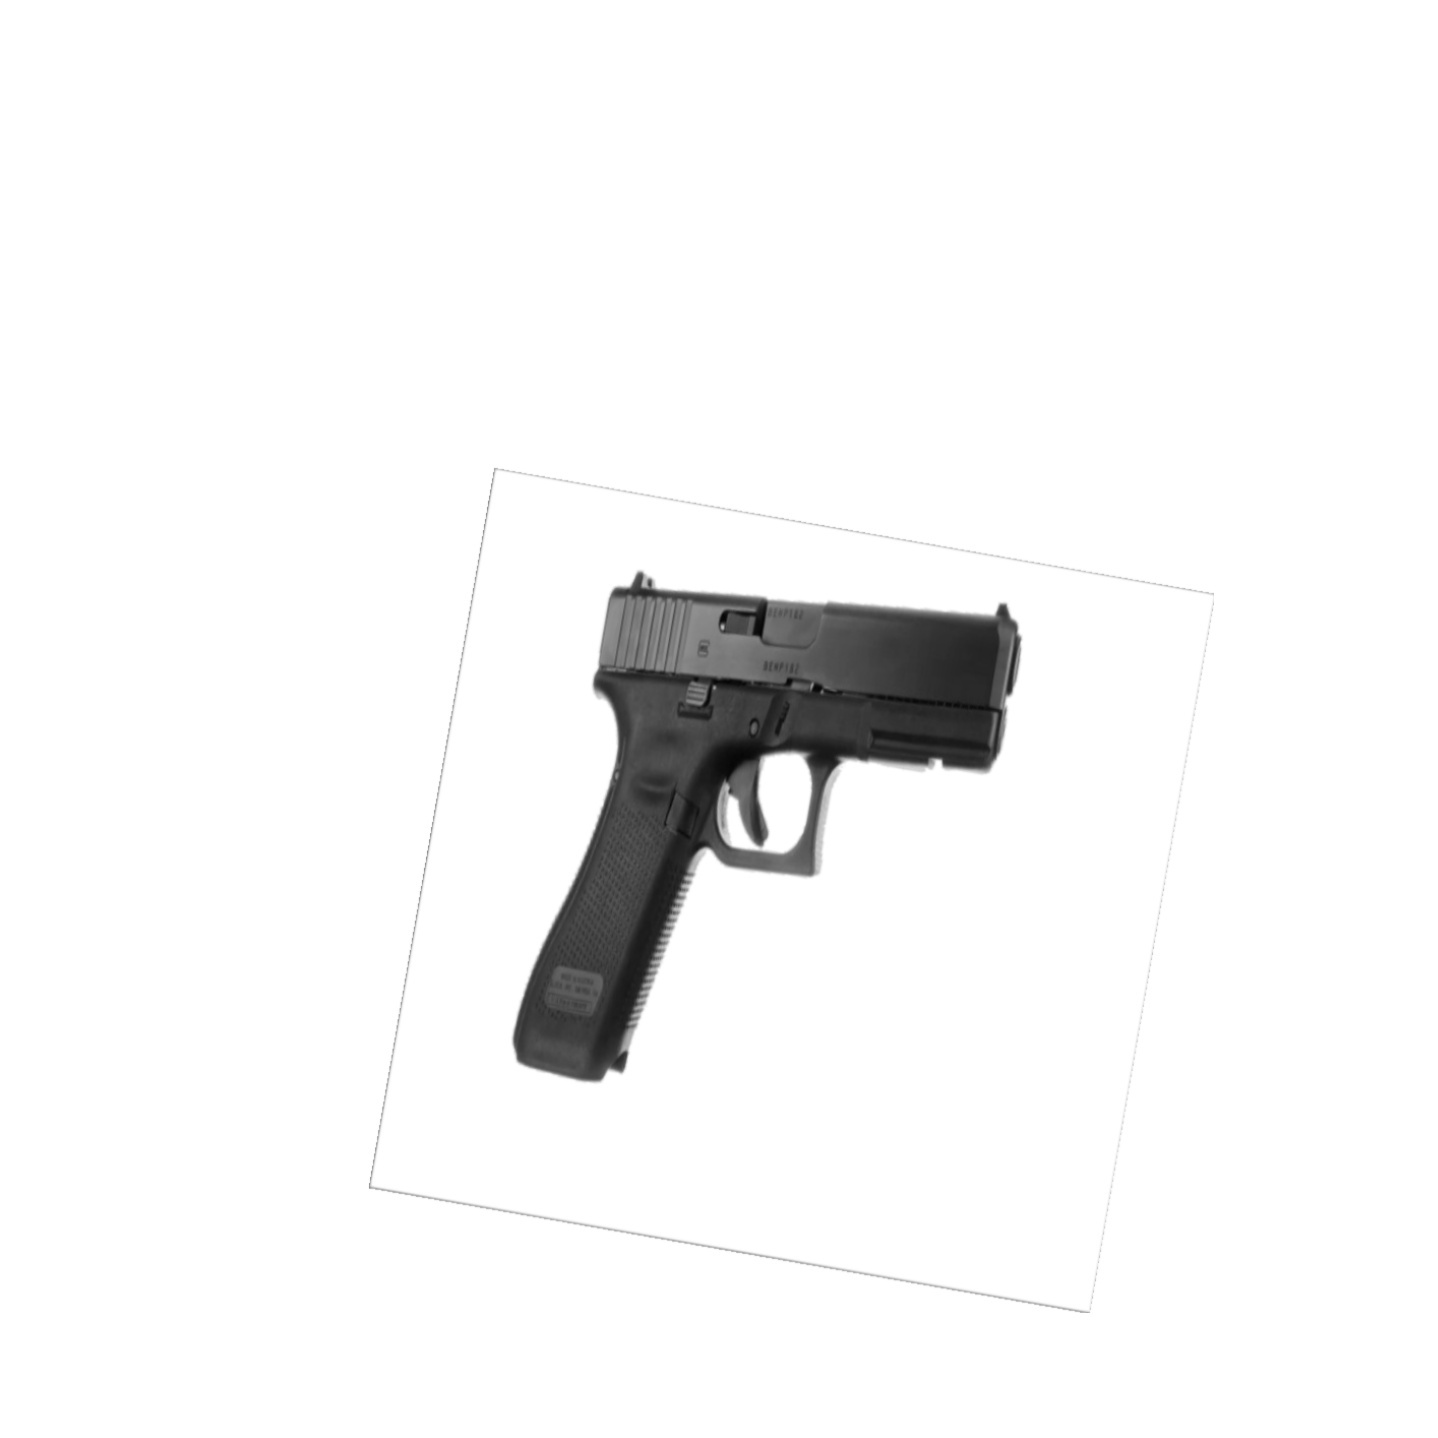gun: (506, 566, 1023, 1084)
